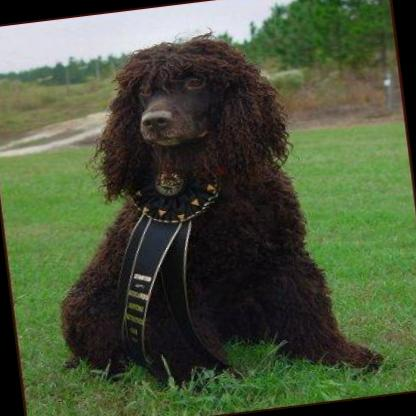Irish_water_spaniel: (25, 18, 386, 411)
